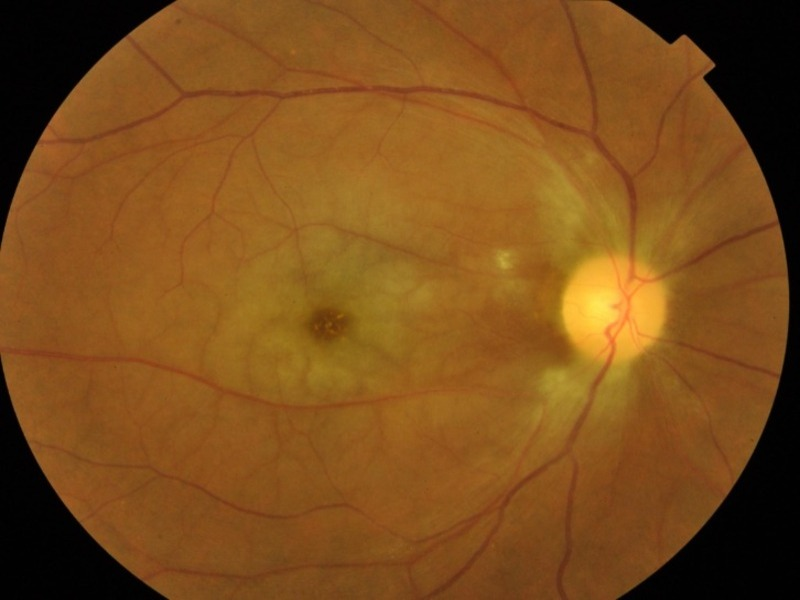Optic Cup: (587, 287, 618, 326)
Optic Disc: (564, 254, 666, 361)
